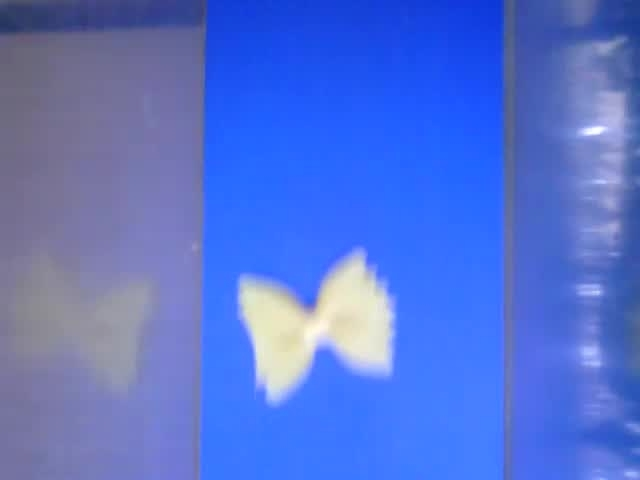farfalle: (238, 245, 400, 406)
